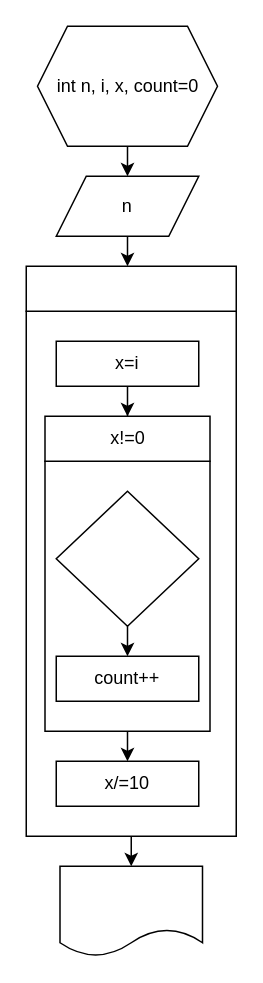
Some shapes in this 263 by 983 pixel diagram are drawn without their labels. The box of each missing label's shape, as (x1, y1, x2, y2) in pixels:
count: (58, 865, 202, 956)
i=1; i<=n; i++: (25, 265, 236, 311)
x%10==3 || x%10==6 || x%10==9: (55, 490, 199, 626)
